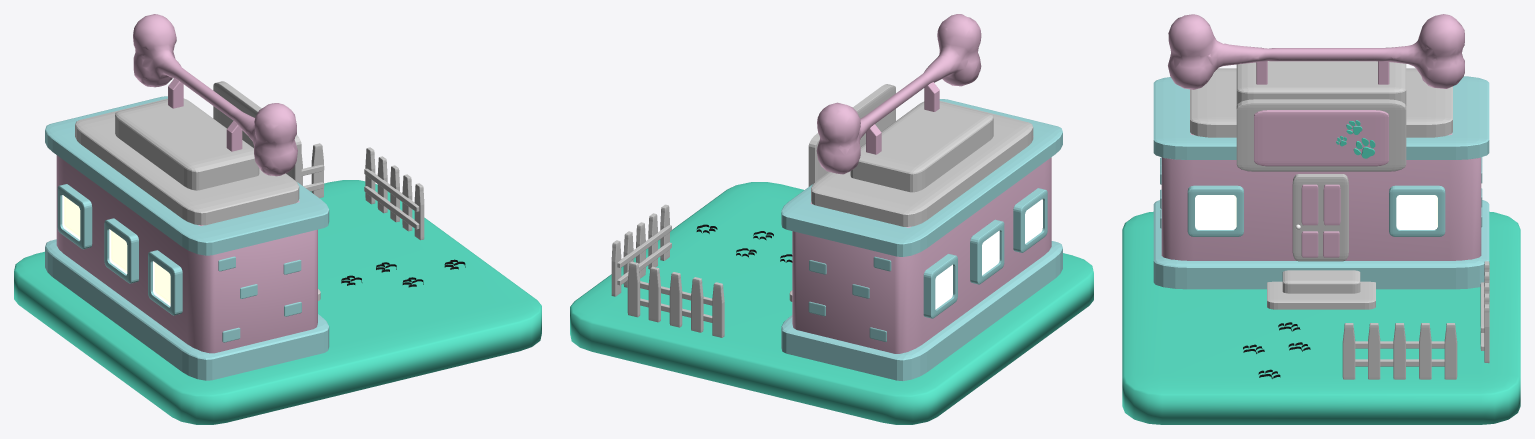
Rendered from house_3__cute_series.glb.
3 renders of one model, left to right at view 1: azimuth 30°, elevation 25°; view 2: azimuth 150°, elevation 25°; view 3: azimuth 270°, elevation 25°, orthographic. The views are drawn at different scales.
Visible parts, largest first — view 1: Roundcube.028, Roundcube.001, Roundcube.002, Roundcube.006, Roundcube.003, Roundcube.004, Sphere.002, Roundcube.029, Roundcube.014, Roundcube.036, Roundcube.020, Roundcube.008 (+2 smaller); view 2: Roundcube.028, Roundcube.001, Roundcube.002, Roundcube.006, Roundcube.003, Roundcube.004, Sphere.002, Roundcube.030, Roundcube.029, Roundcube.014, Roundcube.036, Roundcube.020 (+2 smaller); view 3: Roundcube.028, Roundcube.001, Sphere.002, Roundcube.006, Roundcube.002, Roundcube.009, Roundcube.004, Roundcube.003, Roundcube.008, Roundcube.029, Roundcube.013, Roundcube.019 (+8 smaller).
Part boxes in pixels (box(x1,y1,x2,y2)): Roundcube.028: box(14, 180, 541, 424); Roundcube.001: box(56, 155, 317, 353); Roundcube.002: box(45, 96, 329, 255); Roundcube.006: box(45, 239, 329, 380); Roundcube.003: box(75, 98, 299, 225); Roundcube.004: box(115, 98, 259, 190); Sphere.002: box(133, 14, 297, 176); Roundcube.029: box(364, 147, 424, 240); Roundcube.014: box(57, 184, 92, 249); Roundcube.036: box(148, 250, 182, 315); Roundcube.020: box(104, 218, 138, 283); Roundcube.008: box(213, 81, 301, 184); Roundcube.028: box(570, 182, 1093, 424); Roundcube.001: box(792, 136, 1051, 353); Roundcube.002: box(781, 99, 1062, 256); Roundcube.006: box(781, 241, 1062, 380); Roundcube.003: box(811, 101, 1033, 226); Roundcube.004: box(850, 101, 993, 192); Sphere.002: box(816, 14, 981, 174); Roundcube.030: box(627, 261, 724, 337); Roundcube.029: box(611, 204, 671, 296); Roundcube.014: box(923, 254, 957, 318); Roundcube.036: box(1013, 188, 1047, 252); Roundcube.020: box(970, 219, 1004, 284); Roundcube.028: box(1122, 211, 1520, 424); Roundcube.001: box(1161, 133, 1481, 260); Sphere.002: box(1168, 14, 1464, 89); Roundcube.006: box(1153, 200, 1489, 289); Roundcube.002: box(1153, 76, 1489, 159); Roundcube.009: box(1254, 110, 1388, 166); Roundcube.004: box(1236, 61, 1406, 105); Roundcube.003: box(1190, 68, 1452, 137); Roundcube.008: box(1236, 99, 1406, 171); Roundcube.029: box(1342, 323, 1457, 379); Roundcube.013: box(1187, 185, 1243, 236); Roundcube.019: box(1389, 185, 1445, 236).
Bounding box in the file's own units: 9.28 × 6.71 × 8.45.
